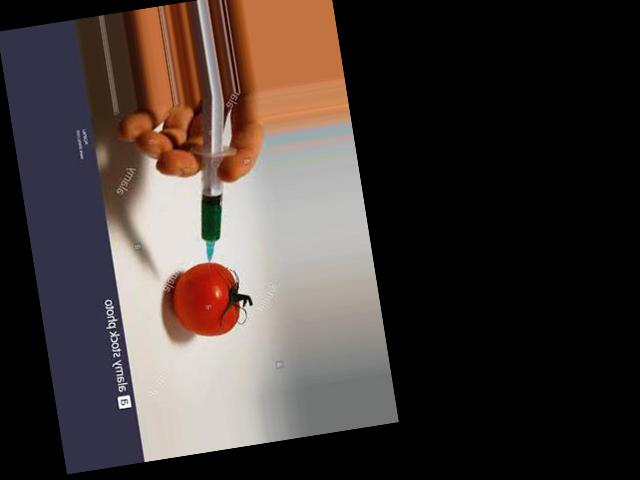tomato: (168, 258, 242, 340)
